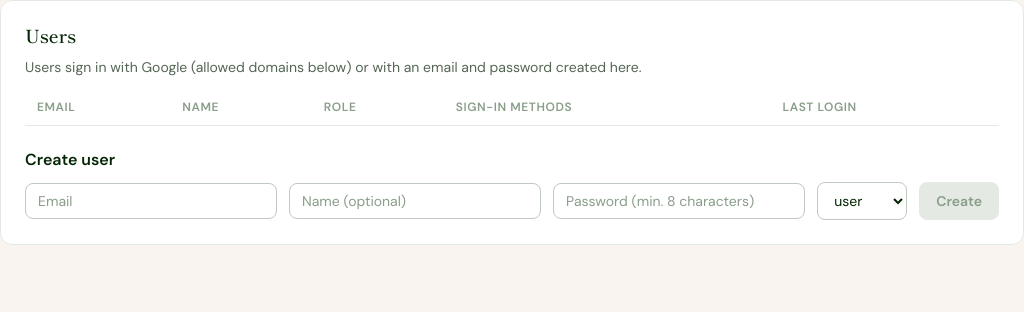
Test: AdminUsers › surfaces a 409 duplicate-email error
The width and height of the screenshot is (1024, 312).
In the field with placeholder "Email": (151, 201) [25,183,277,219], type "dup@x.io"
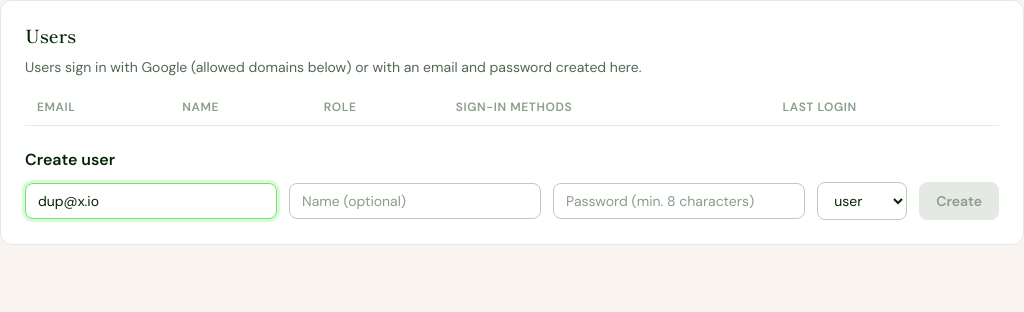
In the password field with placeholder "Password (min. 8 characters)": (679, 201) [553,183,805,219], type "secret-password"
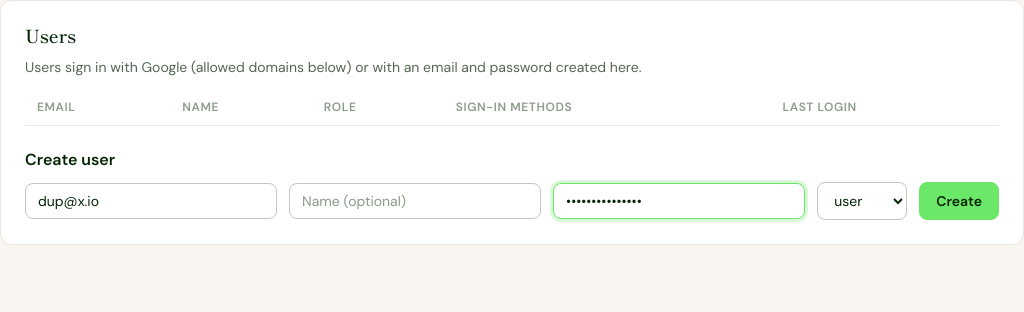
Click the button "Create": (959, 201) [919,182,999,220]
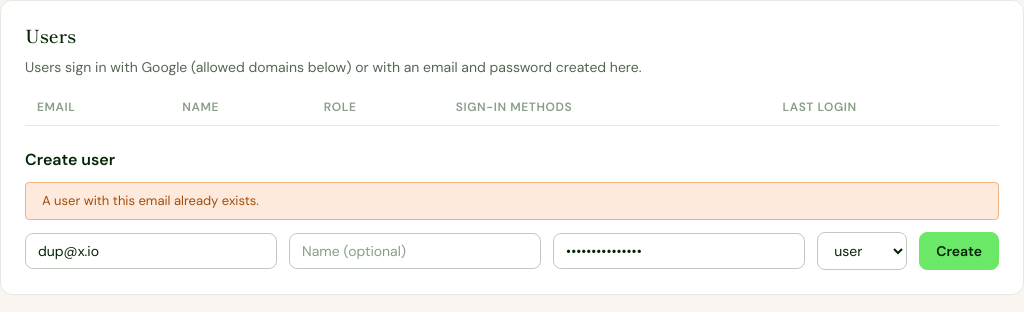
Check: the text "A user with this email already exists." is shown, box [25,182,999,220]
